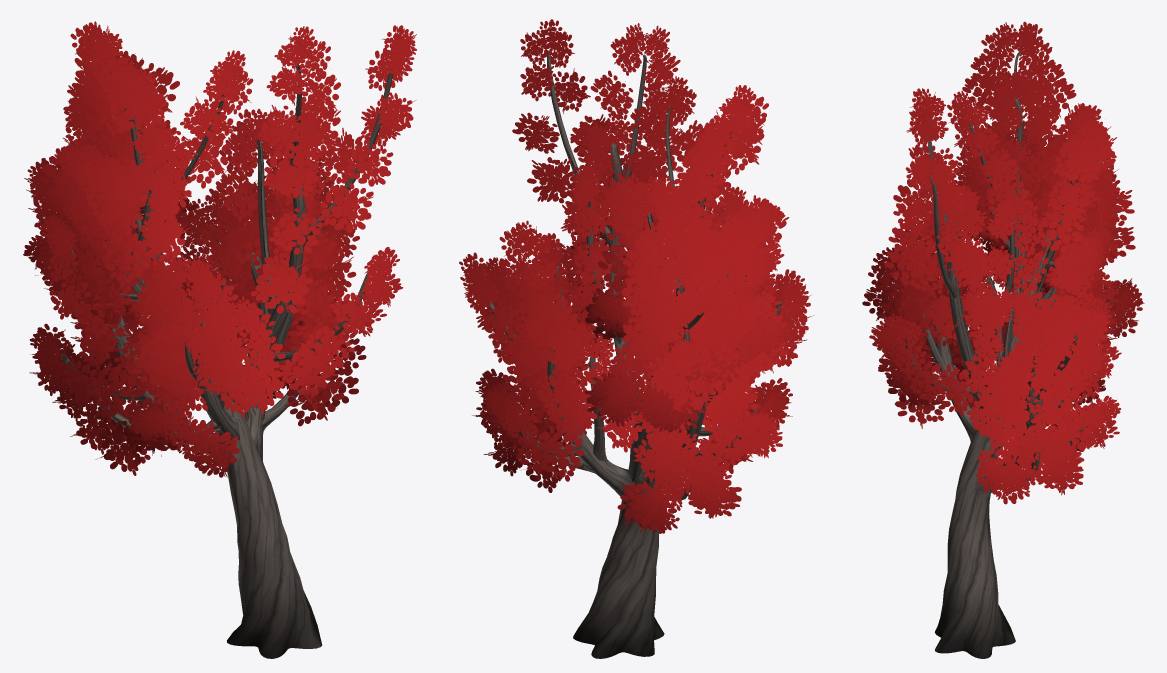
Rendered from TwistedTree_2.gltf.
3 views of the same model, side by side, from view 1: azimuth 30°, elevation 25°; view 2: azimuth 150°, elevation 25°; view 3: azimuth 270°, elevation 25° (orthographic). The views are drawn at different scales.
Visible parts, largest first — view 1: TwistedTree_2; view 2: TwistedTree_2; view 3: TwistedTree_2.
Boxes of the visible parts, x1=… form: TwistedTree_2: x1=23, y1=21, x2=416, y2=658; TwistedTree_2: x1=459, y1=19, x2=814, y2=658; TwistedTree_2: x1=862, y1=21, x2=1144, y2=658.
Bounding box in the file's own units: 10.56 × 18.95 × 9.2.
Materials: 2 (2 with a texture image).
